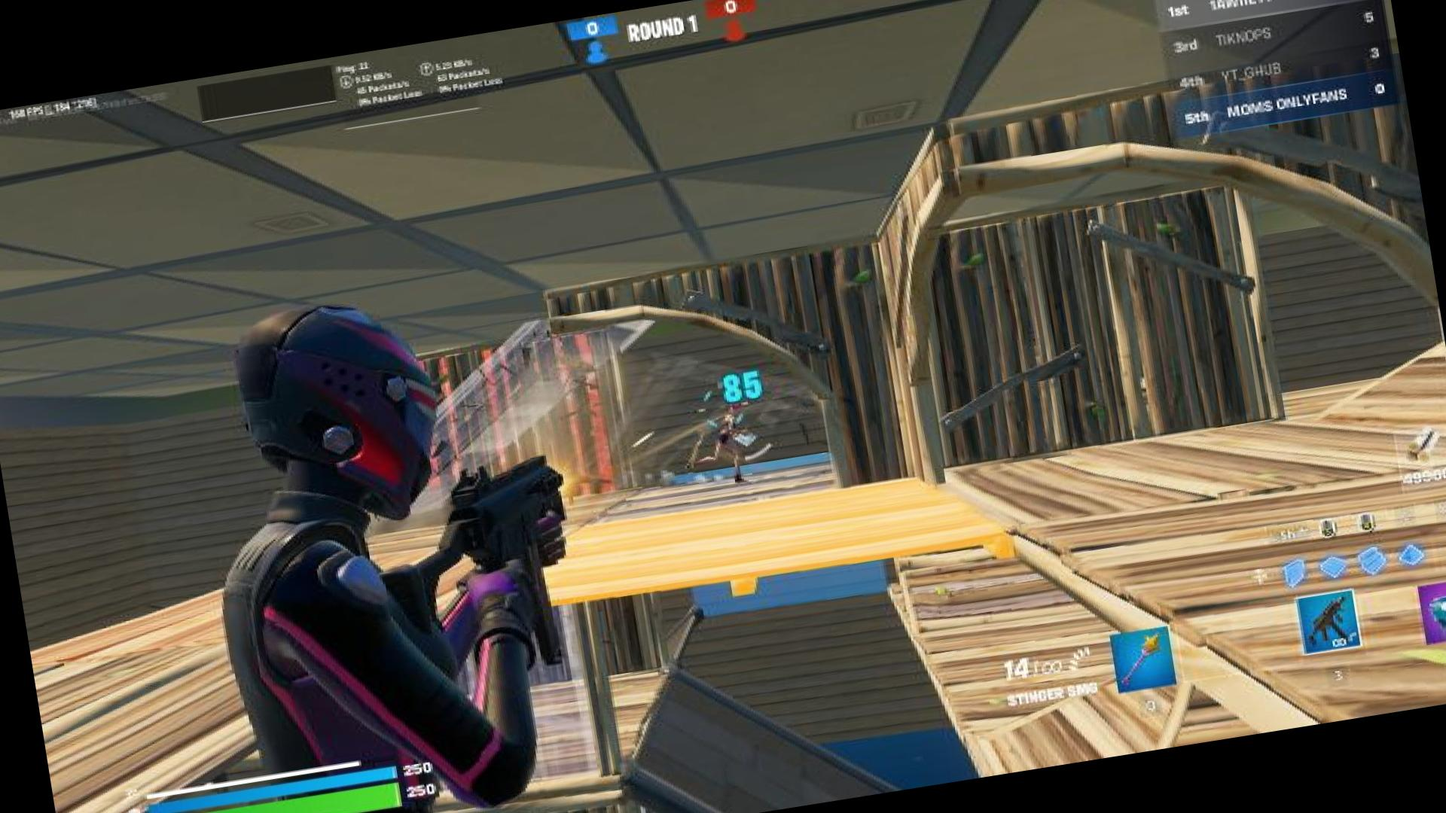player: (695, 396, 758, 488)
